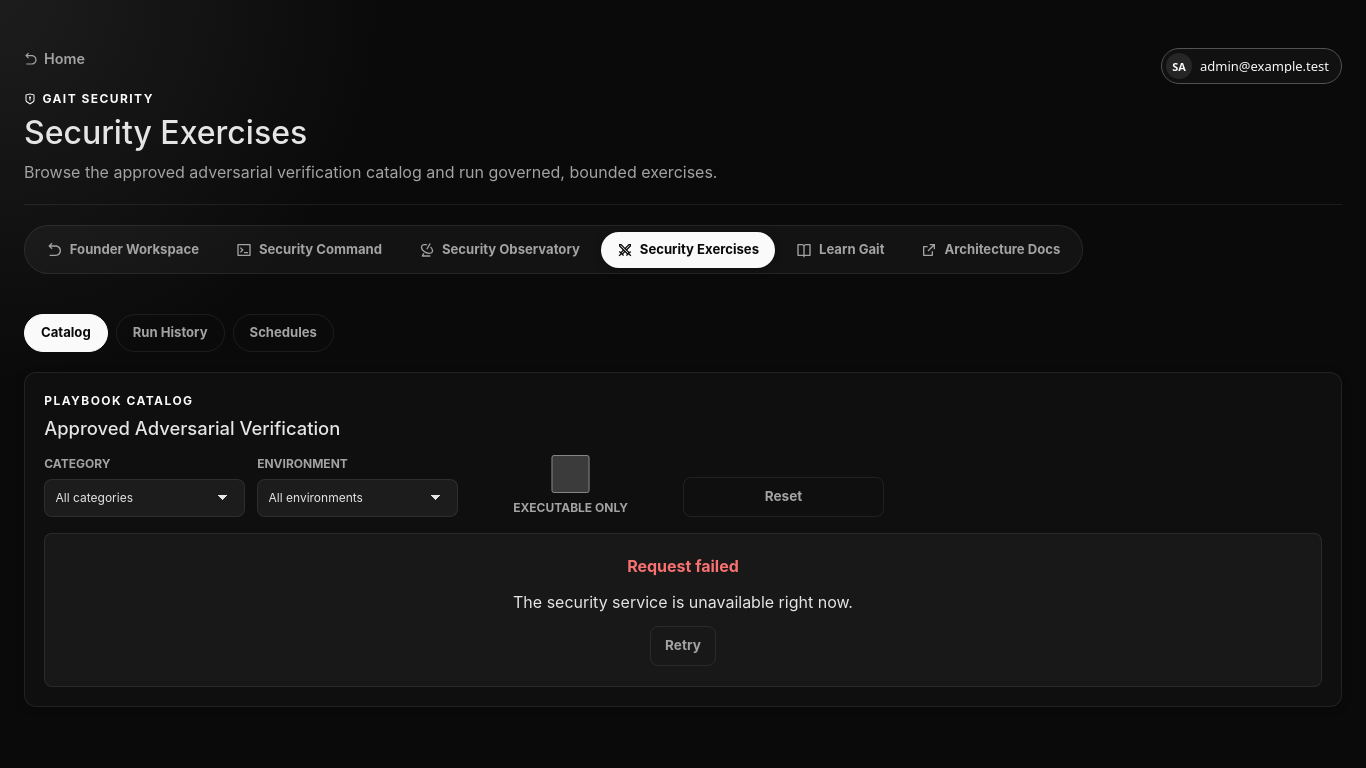
Test: SecurityExercisesPage catalog › a catalog request failure does not blank run history
Expected: the message "Request failed The security service is unavailable right now. Retry" is shown, [44,533,1322,687]
Click the button "Run History" at (170, 333), box [116,314,225,352]
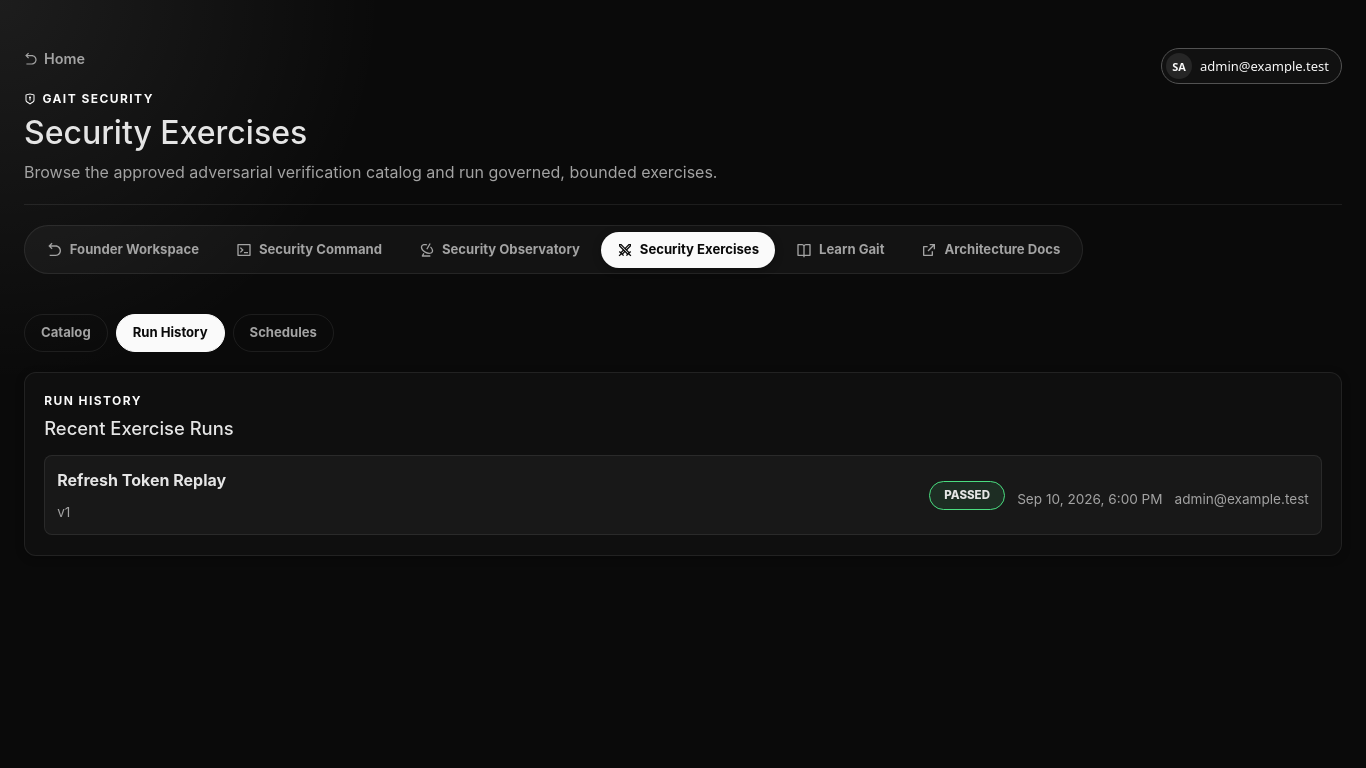
Expected: the text "Refresh Token Replay" is shown, [57,470,226,490]
